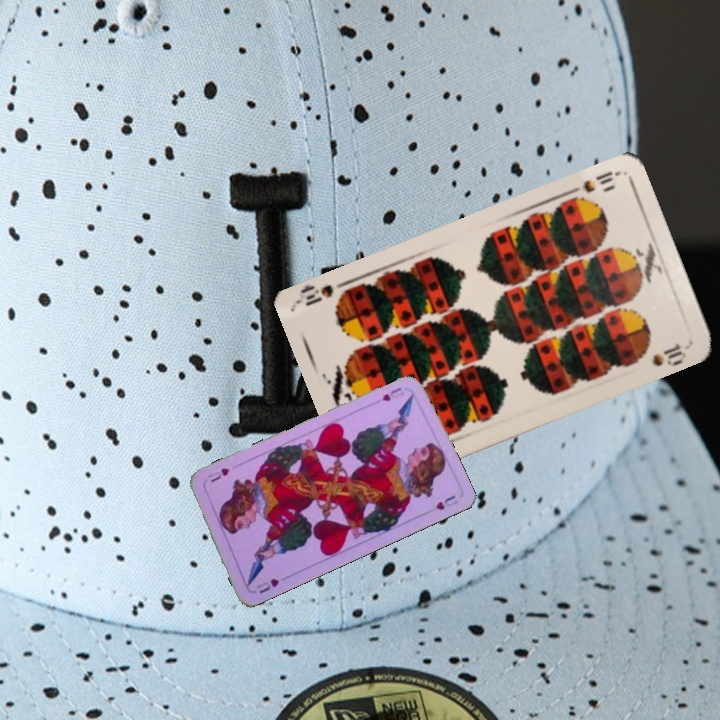HU: (253, 574, 282, 596), (378, 383, 407, 404)
S10: (565, 167, 622, 206)
